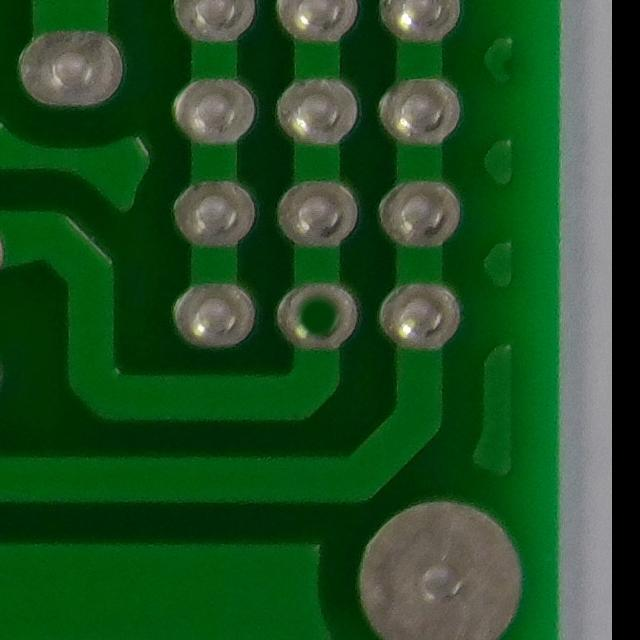missing_hole: (282, 286, 359, 354)
